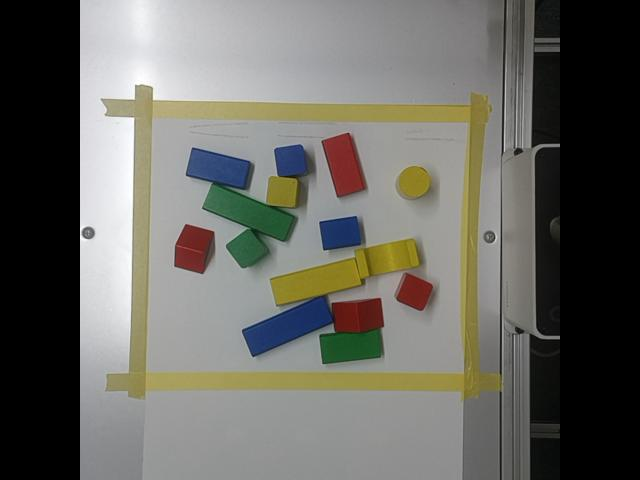blue_cube: (274, 144, 305, 175)
blue_longrect: (243, 295, 333, 354)
blue_rect: (186, 147, 250, 188)
cylinder: (399, 165, 429, 196)
green_cube: (226, 228, 266, 268)
green_longrect: (203, 181, 293, 241)
green_rect: (320, 330, 382, 362)
half_cylinder: (320, 215, 360, 248)
red_cube: (394, 271, 434, 310)
red_rect: (322, 132, 365, 195)
triangle: (175, 223, 214, 273), (332, 297, 384, 331)
yellow_archrect: (355, 238, 420, 277)
yellow_cube: (267, 175, 298, 206)
yellow_longrect: (270, 257, 361, 305)
